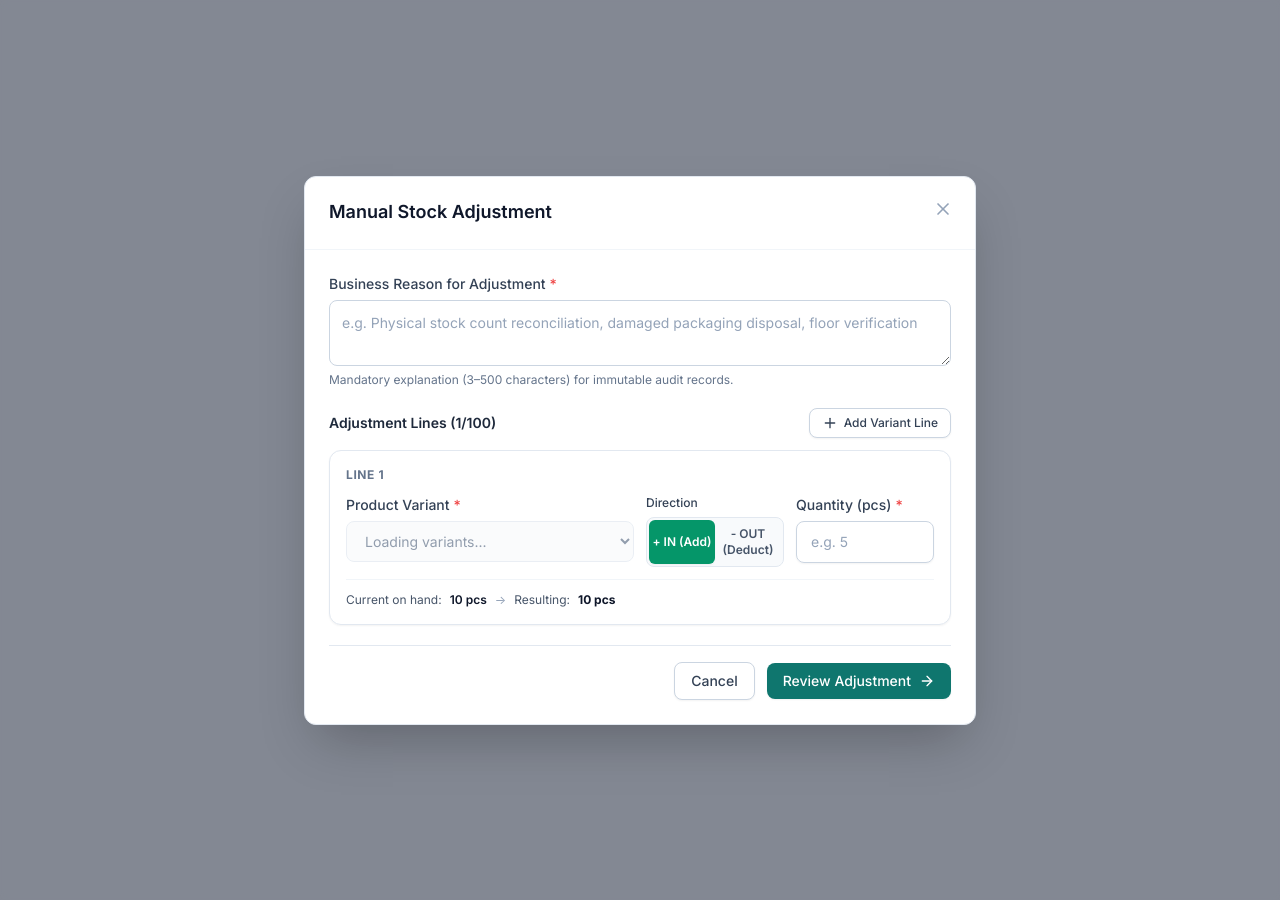
Test case: StockAdjustmentModal Component Tests › calculates live IN adjustment preview correctly
This screenshot has width=1280, height=900.
Step 1. Type "5" into the number field with placeholder "e.g. 5" → [865, 542], box [796,520,934,562]
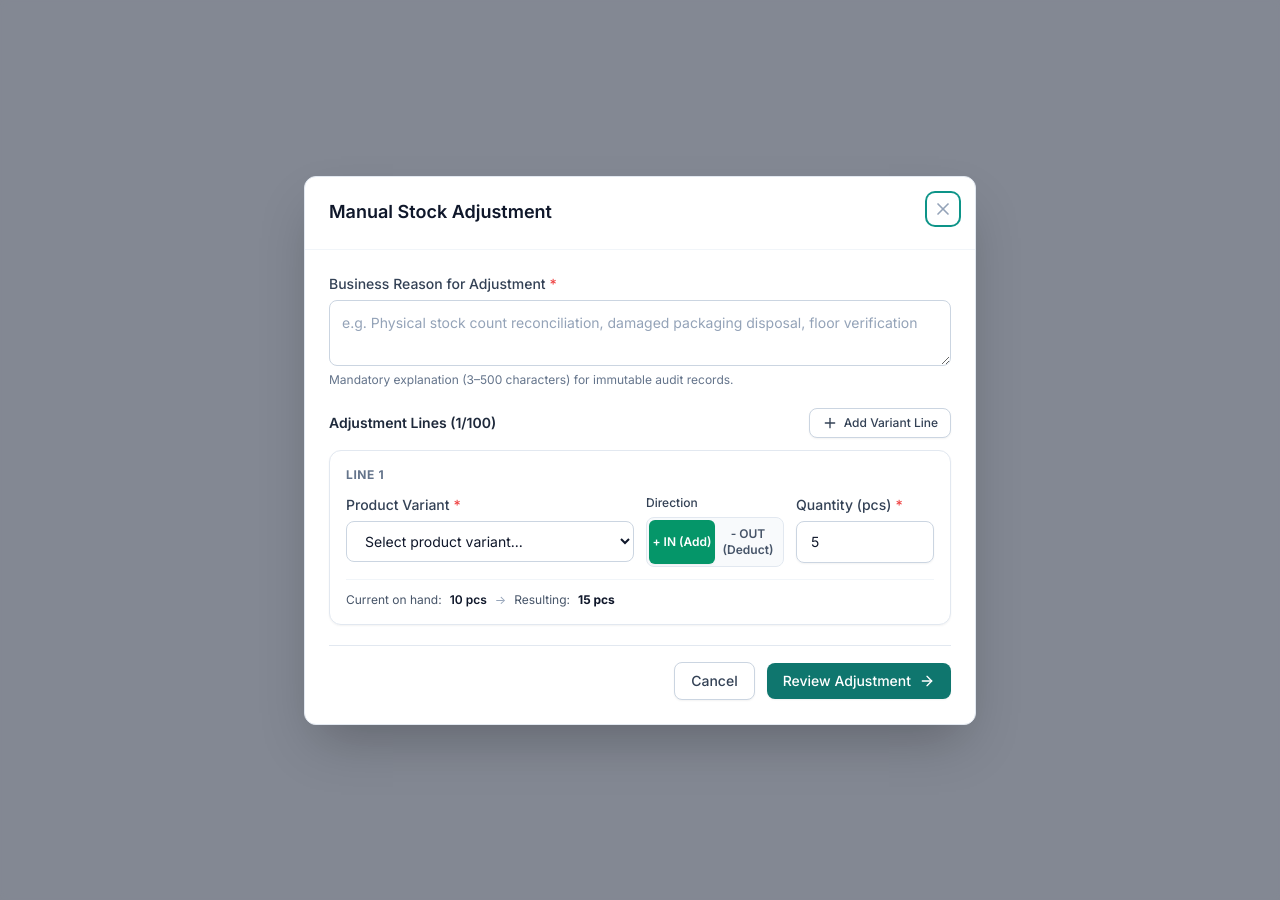
Expected: the text "15 pcs" is shown, [578,592,615,608]
